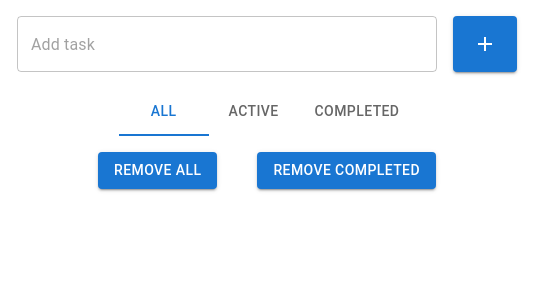
Добавление новой задачи
Type "Купить молоко" into the field with placeholder "Add task". click: x=227, y=44
box: [17, 16, 437, 72]
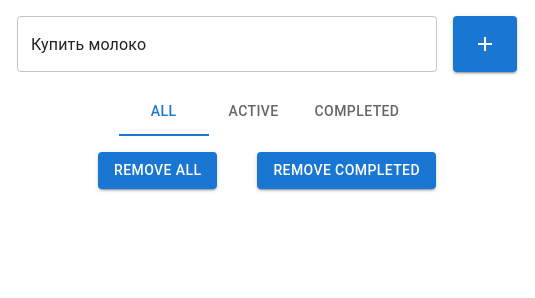
Click the button named "Добавить". click: x=485, y=44
box: [453, 16, 517, 72]
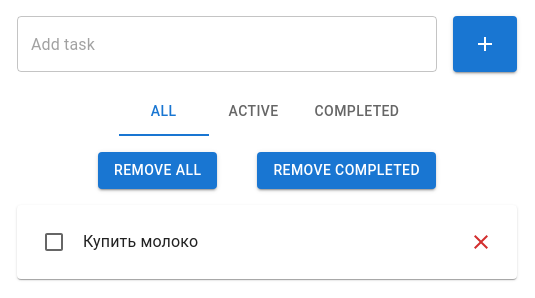
Result: the text "Купить молоко" is shown at [83, 230, 198, 254]
